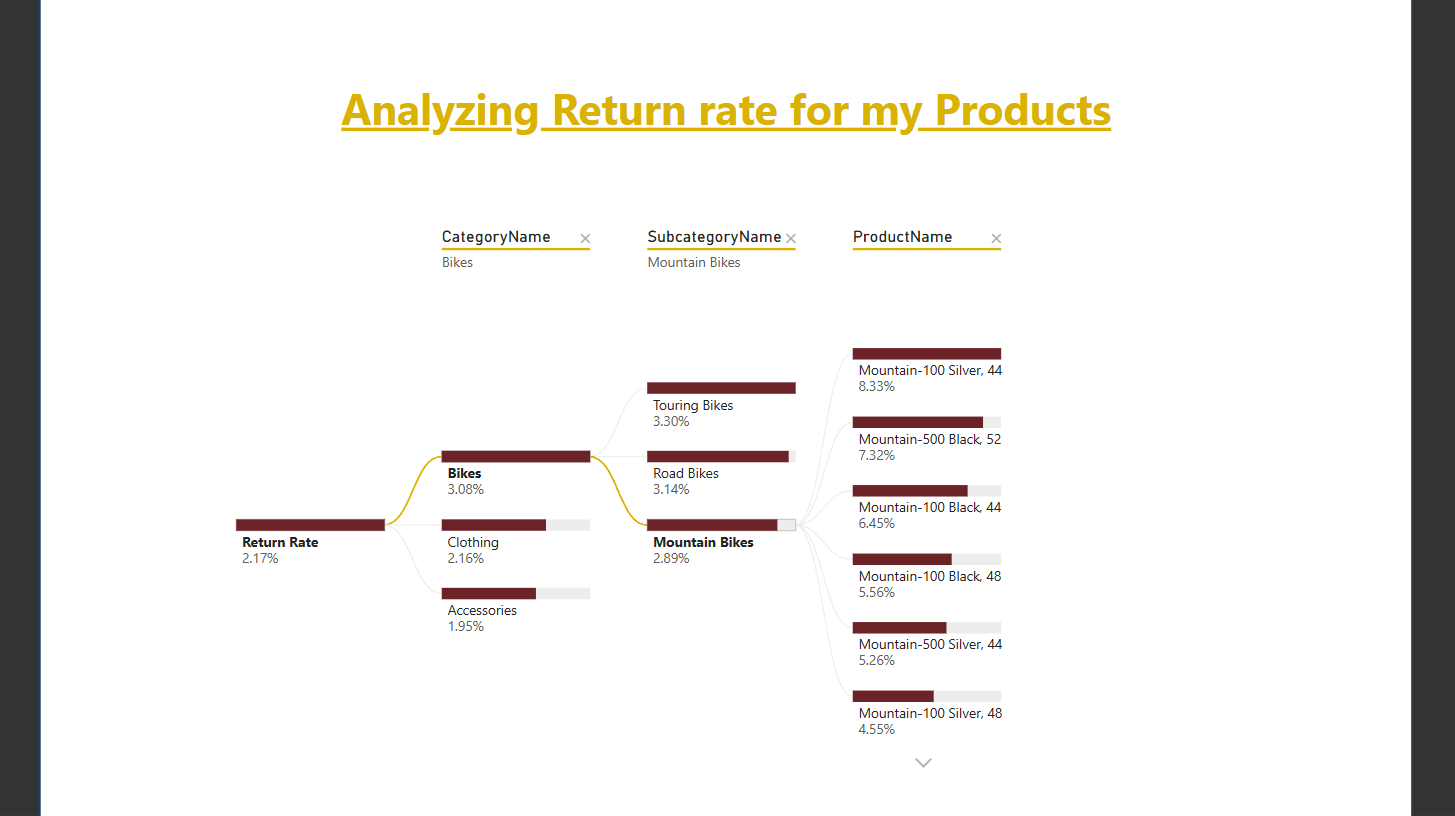

The page's visual inventory and layout, read from the dashboard file:
{"tool":"powerbi","page":{"name":"Tree","canvas":[1280,720],"ordinal":4},"visuals":[{"type":"decompositionTreeVisual","fields":{"Analyze":["Measure Table.Return Rate"],"ExplainBy":["Product-Categories.CategoryName","Product-Subcategories.SubcategoryName","Products.ProductName"]},"box":[180.4,186.6,971.4,533.4],"z":0},{"type":"textbox","box":[89.2,69.1,1100.6,117.1],"z":1000},{"type":"shape","box":[0,0,39.4,720],"z":1001},{"type":"shape","box":[1239.4,0,40.3,720],"z":1002}]}

Visuals, with their boxes in screenshot pixels (x1, y1, x2, y2), scaled from the page's 1280x720 canvas onto the 1455x816 screenshot:
decompositionTreeVisual - Measure Table.Return Rate x Product-Categories.CategoryName: crop(205, 211, 1309, 815)
textbox: crop(101, 78, 1352, 211)
shape: crop(0, 0, 45, 815)
shape: crop(1409, 0, 1454, 815)
